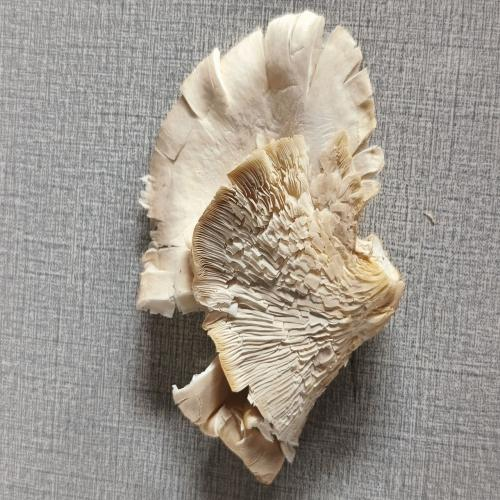Oyster Mushroom: (97, 4, 430, 498), (96, 93, 461, 488), (46, 0, 413, 337)
